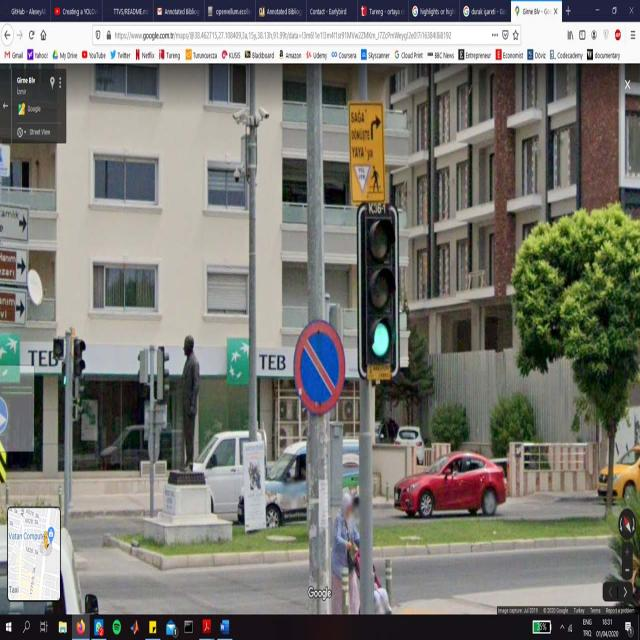parkyasak: (296, 326, 342, 411)
yesil: (362, 205, 396, 375)
